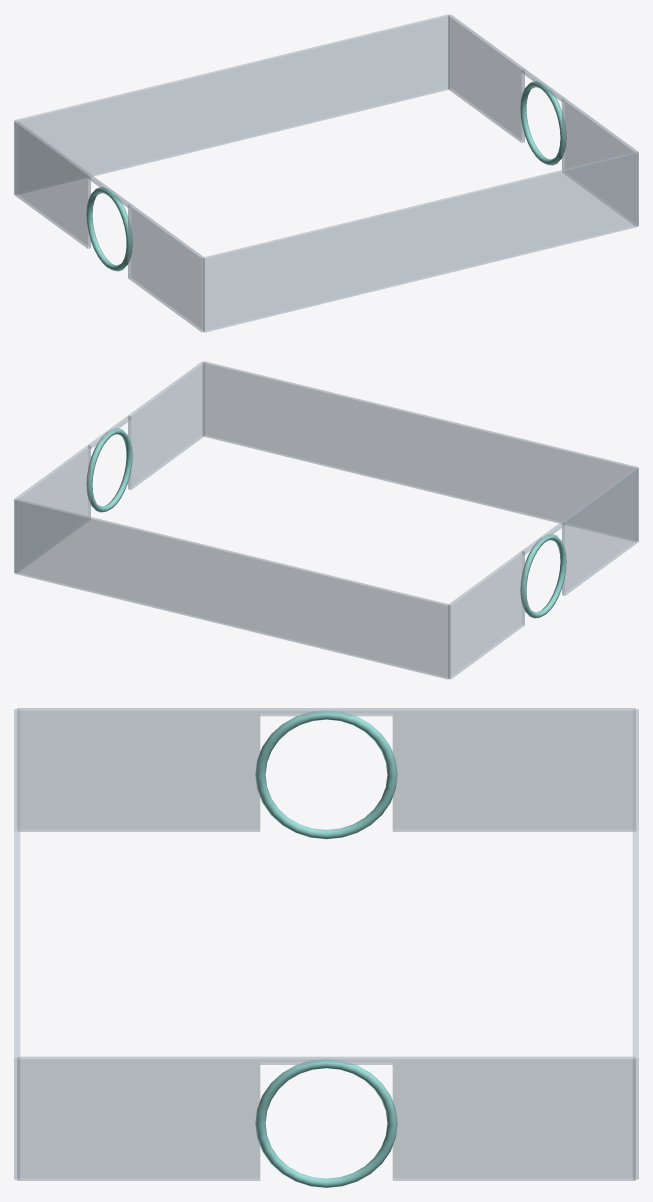
The model's file is cage_walls_clear.glb.
3 renders of one model, top to bottom at view 1: azimuth 30°, elevation 25°; view 2: azimuth 150°, elevation 25°; view 3: azimuth 270°, elevation 25°, orthographic. The views are drawn at different scales.
Visible parts, largest first — view 1: walls, tube_holes; view 2: walls, tube_holes; view 3: walls, tube_holes.
Boxes of the visible parts, x1,y1,x2,y2 form: walls: (14, 14, 638, 332); tube_holes: (86, 81, 566, 271); walls: (14, 361, 638, 679); tube_holes: (86, 428, 566, 618); walls: (14, 708, 638, 1180); tube_holes: (255, 710, 397, 1187).
Bounding box in the file's own units: 4.04 × 0.695 × 3.03.
